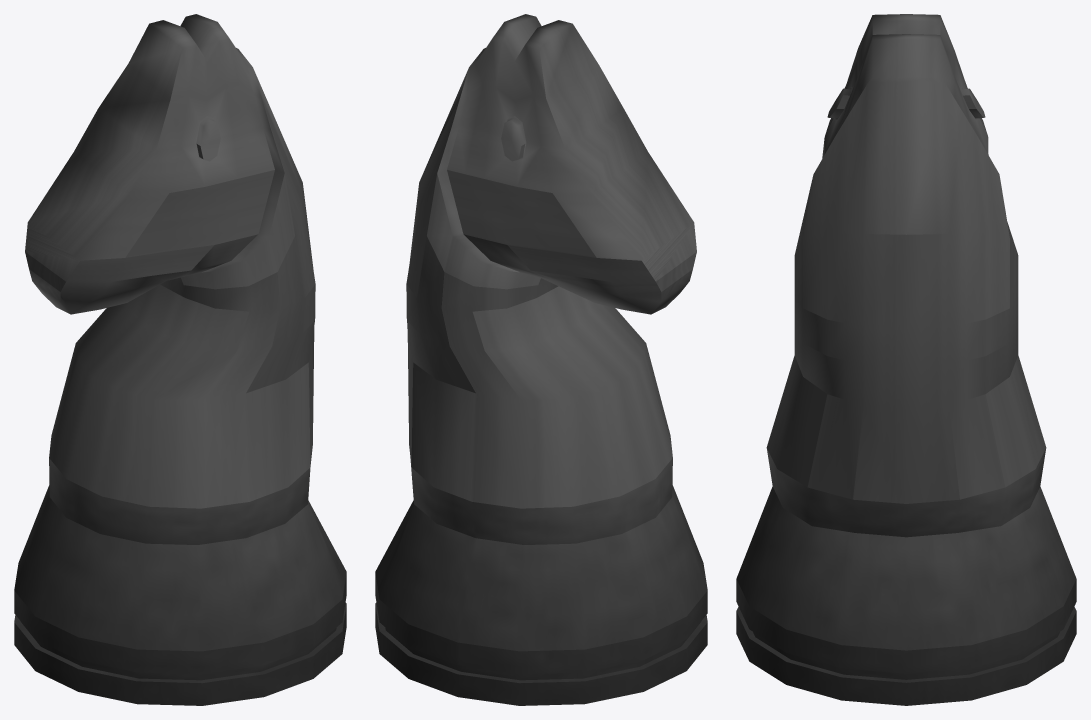
The model's file is horse.glb.
3 renders of one model, left to right at view 1: azimuth 30°, elevation 25°; view 2: azimuth 150°, elevation 25°; view 3: azimuth 270°, elevation 25°, orthographic.
Parts seen in each view (by area): view 1: Cylinder.003_Material.001_0; view 2: Cylinder.003_Material.001_0; view 3: Cylinder.003_Material.001_0.
Boxes of the visible parts, <box> form: Cylinder.003_Material.001_0: <box>14,14,346,705</box>; Cylinder.003_Material.001_0: <box>375,14,707,705</box>; Cylinder.003_Material.001_0: <box>736,14,1076,705</box>.
Size of the model in its own units: 6.14 by 12.26 by 6.14.
Materials: 1 (1 with a texture image).
